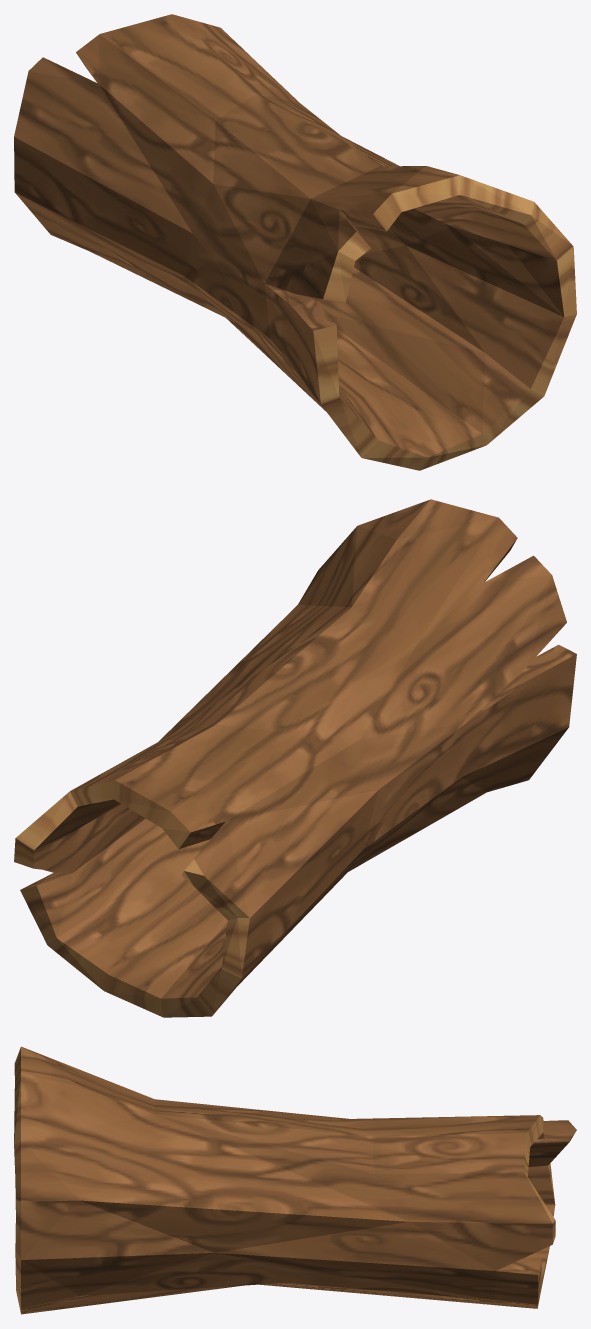
Rendered from VEG0210031.fbx.
3 views of the same model, one above another, from view 1: azimuth 30°, elevation 25°; view 2: azimuth 150°, elevation 25°; view 3: azimuth 270°, elevation 25° (orthographic). The views are drawn at different scales.
Parts seen in each view (by area): view 1: smVEG0210031; view 2: smVEG0210031; view 3: smVEG0210031.
Part boxes in pixels (box(x1,y1,x2,y2)): smVEG0210031: box(14, 14, 576, 470); smVEG0210031: box(14, 499, 576, 1017); smVEG0210031: box(14, 1046, 576, 1314).
Bounding box in the file's own units: 80.14 × 83.67 × 178.
Materials: 1 (1 with a texture image).
